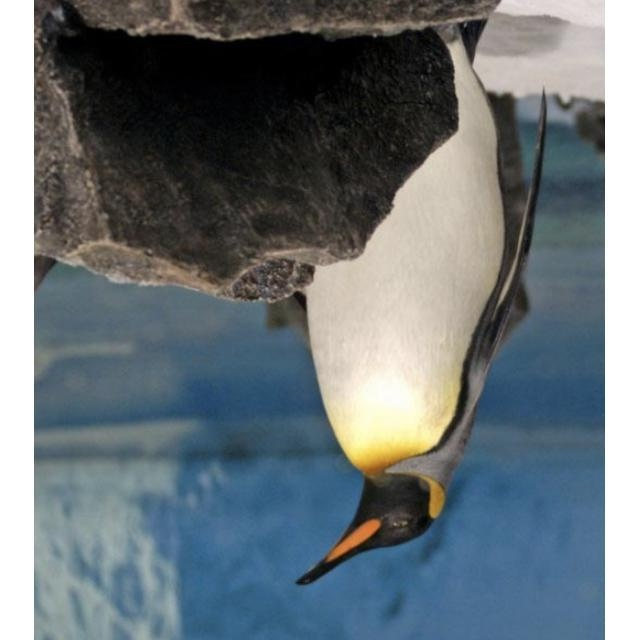penguin: (303, 20, 548, 586)
